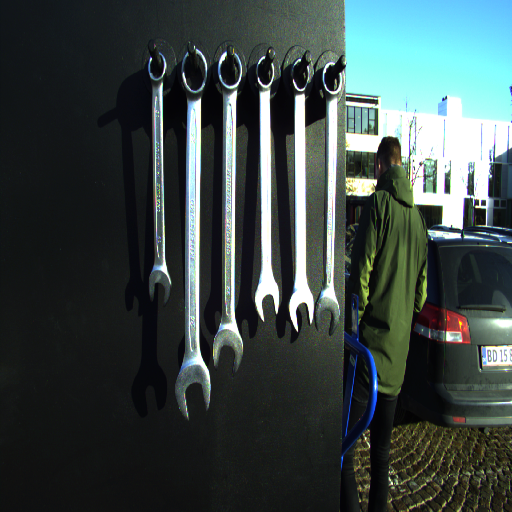bottom: (173, 351, 212, 421), (208, 323, 244, 373), (315, 278, 342, 340), (285, 285, 315, 340), (251, 276, 283, 323), (146, 262, 174, 305)
top: (179, 47, 210, 97), (216, 50, 244, 92), (319, 60, 344, 100), (253, 55, 278, 92), (287, 58, 311, 93), (145, 52, 169, 82)
